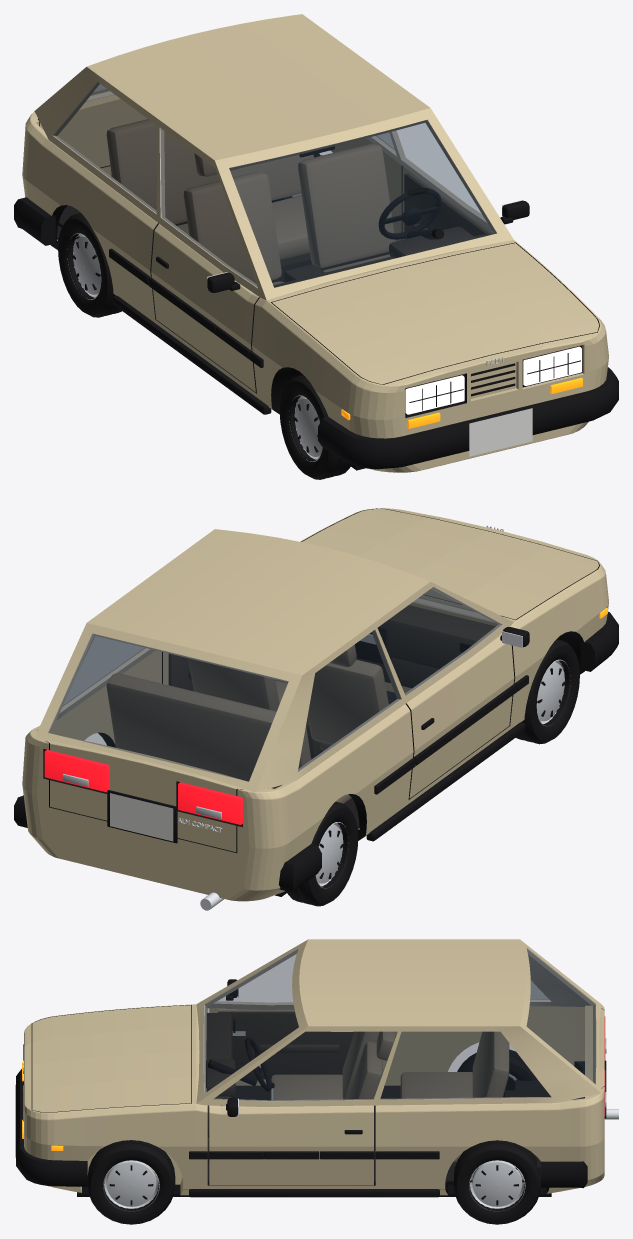
The model's file is palm-compact.glb.
3 renders of one model, top to bottom at view 1: azimuth 30°, elevation 25°; view 2: azimuth 150°, elevation 25°; view 3: azimuth 270°, elevation 25°, orthographic. The views are drawn at different scales.
Visible parts, largest first — view 1: Body, Windows, Interior, Hood, Door_FR, Glass_Door_F_R, Lights, Tailgate, Tire_RR, Tire_FR, Plate_F, DoorCard_FL (+4 smaller); view 2: Body, Interior, Glass_Rear, Hood, Tailgate, Door_FR, Windows, Glass_Door_F_R, Lights, Tire_FR, Tire_RR, Plate_R (+3 smaller); view 3: Body, Windows, Hood, Door_FL, Interior, Glass_Door_F_L, DoorCard_FR, Glass_Rear, Tire_FL, Tire_RL, Tailgate, Rim_FL (+6 smaller).
Boxes of the visible parts, x1,y1,x2,y2 form: Body: (14, 14, 618, 472); Windows: (53, 82, 496, 287); Interior: (57, 119, 487, 287); Hood: (272, 243, 599, 384); Door_FR: (148, 224, 259, 392); Glass_Door_F_R: (160, 128, 256, 286); Lights: (341, 346, 582, 428); Tailgate: (38, 89, 147, 167); Tire_RR: (58, 213, 121, 317); Tire_FR: (279, 375, 350, 479); Plate_F: (469, 408, 532, 456); DoorCard_FL: (404, 173, 491, 239); Body: (14, 508, 618, 901); Interior: (106, 605, 495, 828); Glass_Rear: (48, 634, 287, 781); Hood: (302, 508, 599, 619); Tailgate: (34, 623, 301, 852); Door_FR: (406, 627, 529, 798); Windows: (63, 589, 474, 771); Glass_Door_F_R: (378, 587, 501, 695); Lights: (44, 608, 607, 824); Tire_FR: (516, 639, 579, 744); Tire_RR: (287, 801, 358, 906); Plate_R: (110, 793, 173, 841); Body: (15, 939, 606, 1197); Windows: (204, 949, 551, 1099); Hood: (32, 1005, 191, 1112); Door_FL: (208, 1098, 374, 1185); Interior: (206, 1013, 582, 1182); Glass_Door_F_L: (213, 1032, 397, 1100); DoorCard_FR: (218, 1011, 354, 1079); Glass_Rear: (527, 949, 595, 1082); Tire_FL: (87, 1140, 175, 1224); Tire_RL: (453, 1140, 540, 1224); Tailgate: (520, 939, 604, 1092); Rim_FL: (103, 1160, 159, 1211).
Bounding box in the file's own units: 2.01 × 1.43 × 4.
